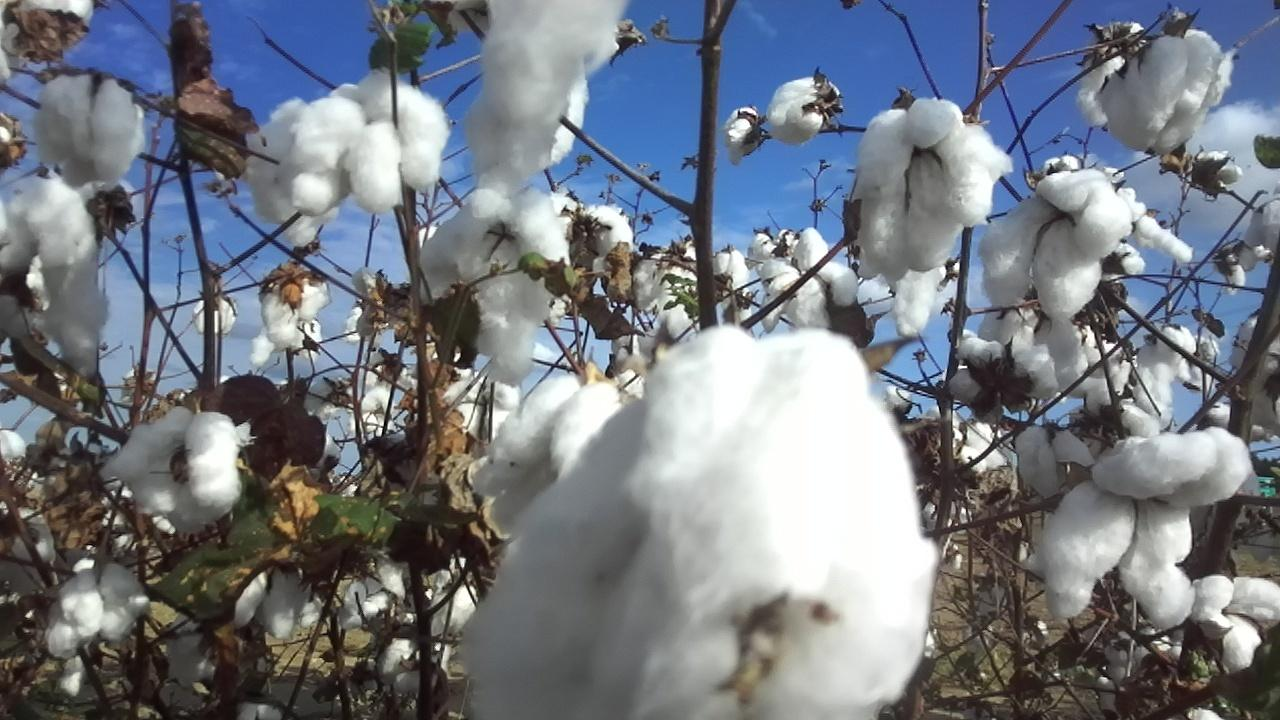cotton_ready: (461, 325, 939, 720), (1046, 425, 1250, 626), (465, 0, 628, 189), (852, 97, 1017, 281), (419, 185, 560, 387), (469, 375, 625, 545), (980, 167, 1134, 321), (0, 175, 109, 375), (97, 409, 240, 529), (331, 70, 449, 214), (1100, 32, 1225, 153), (244, 95, 336, 250), (35, 74, 147, 187), (756, 230, 859, 334), (49, 569, 152, 658), (1194, 574, 1280, 674), (950, 330, 1056, 404), (1077, 24, 1150, 129), (552, 192, 636, 277), (231, 565, 322, 642), (1134, 324, 1199, 418), (1014, 424, 1094, 498), (1057, 405, 1159, 462), (873, 260, 950, 335), (0, 0, 95, 59), (766, 77, 842, 147), (1234, 312, 1280, 427), (261, 277, 330, 353), (1125, 190, 1193, 263), (167, 609, 225, 686), (635, 244, 705, 307), (344, 562, 407, 628), (381, 639, 452, 696), (427, 570, 480, 640), (1039, 319, 1086, 394), (0, 505, 55, 564), (637, 310, 699, 359), (713, 247, 749, 326), (724, 107, 757, 165), (1244, 199, 1280, 250)
